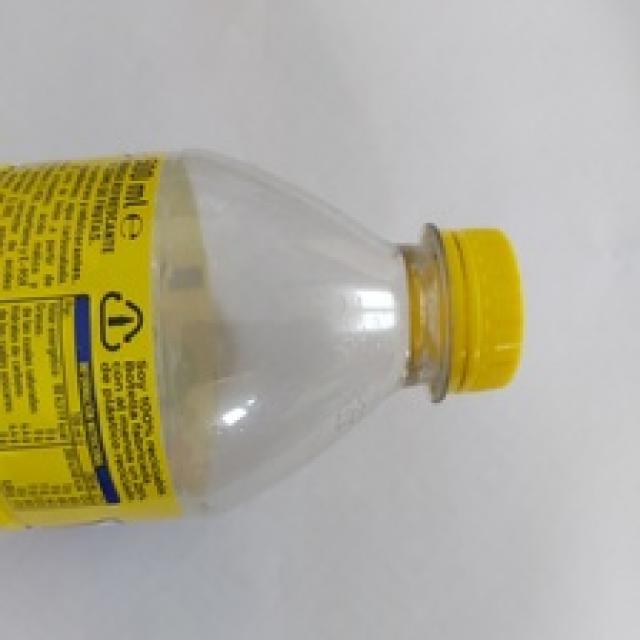plastic_bottle: (1, 139, 559, 532)
